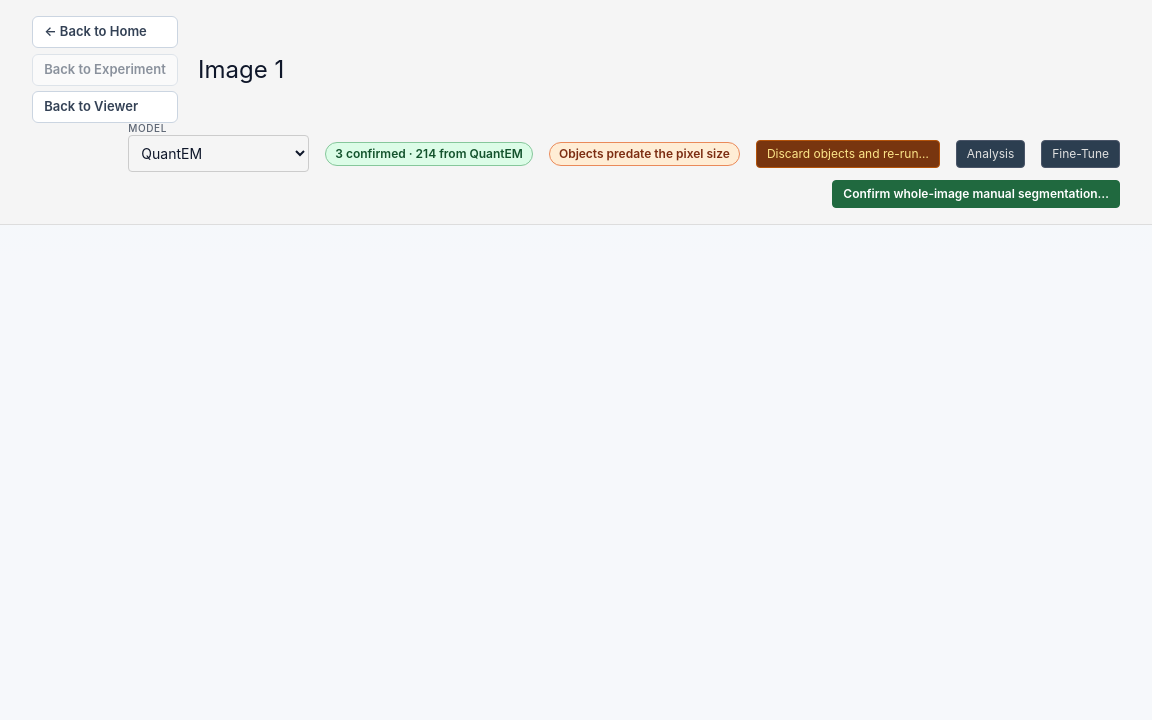
Test: SegmentationHeader › discard-and-re-run recovery for calibrated-after-the-fact › asks first, and names truthfully what the endpoint deletes — hand-drawn included
This screenshot has width=1152, height=720.
Click the button with test id "clear-rerun-button" at (848, 154), box [756,140,940,168]
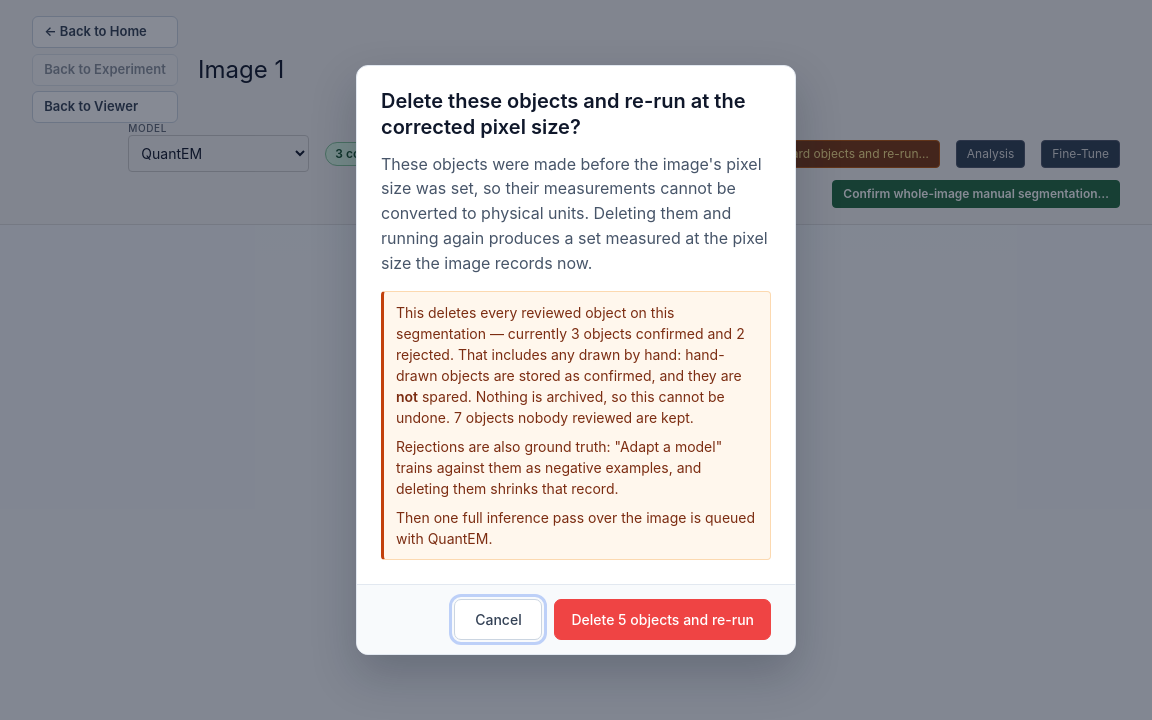
Check: the dialog shows "Delete these objects and re-run at the corrected pixel size?", box [381,88,746,138]
Check: the dialog shows "3 objects confirmed and 2 rejected", box [356,65,796,655]
Check: the dialog shows "drawn by hand", box [396,346,742,384]
